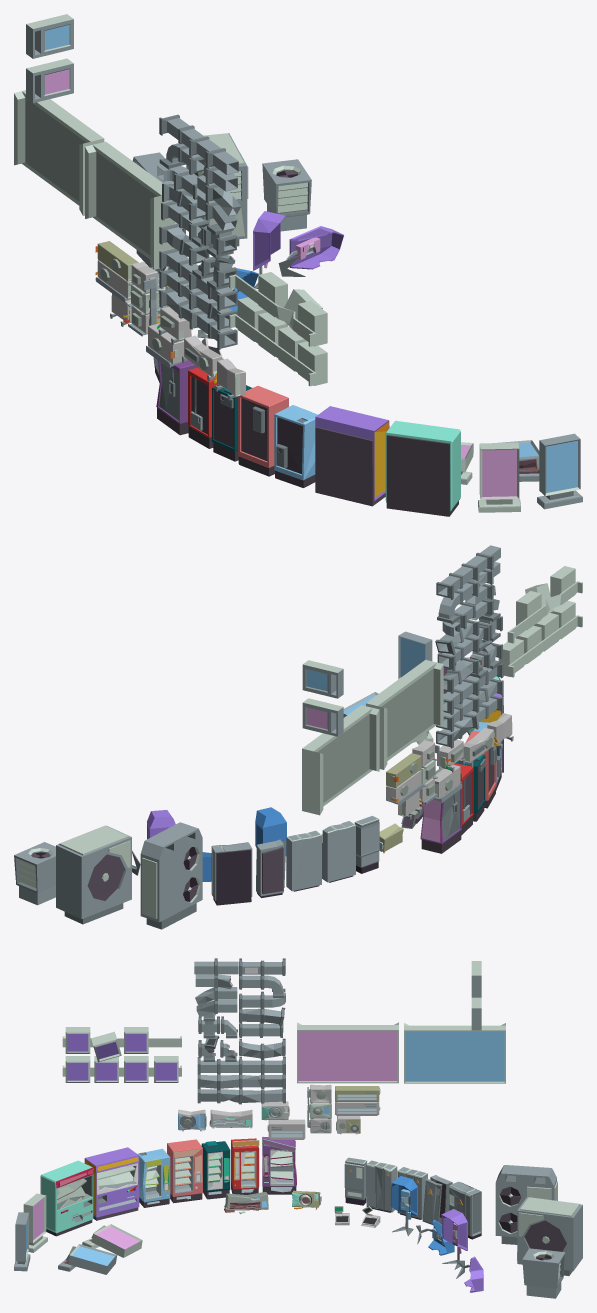
File: Proop1.obj
The picture shows the model from 3 angles, top to bottom: view 1: azimuth 30°, elevation 25°; view 2: azimuth 150°, elevation 25°; view 3: azimuth 270°, elevation 25°; orthographic projection. The views are drawn at different scales.
Parts seen in each view (by area): view 1: signboard_2_Куб.326, 7_vending_machine_Куб.102, 6_vending_machine_Куб.101, signboard_2.RC_Куб.328, signboard_3_Куб.329, signboard_3.RC_Куб.332, 3__vending_machine_Куб.001, 5__vending_machine_Куб.004, street_stand_1_Куб.142, street_stand_1.RC_Куб.273, air_conditioner_in_rouf_Куб.316, 4_vending_machine_Куб.003 (+29 smaller); view 2: air_conditioner_in_rouf_3_Куб.325, air_conditioner_in_rouf_2_Куб.324, signboard_2.RC_Куб.328, signboard_2_Куб.326, signboard_3_Куб.329, Electrical_panels_1_Куб.025, signboard_3.RC_Куб.332, air_conditioner_in_rouf_Куб.316, 4_vending_machine_Куб.003, Electrical_panels_3_Куб.028, Electrical_panels_4_Куб.034, Electrical_panels_2_Куб.026 (+26 smaller); view 3: signboard_2_Куб.326, signboard_2.RC_Куб.328, air_conditioner_in_rouf_3_Куб.325, 7_vending_machine_Куб.102, 6_vending_machine_Куб.101, air_conditioner_in_rouf_2_Куб.324, signboard_3_Куб.329, signboard_3.RC_Куб.332, 3__vending_machine_Куб.001, 4_vending_machine_Куб.003, air_conditioner_in_rouf_Куб.316, 5__vending_machine_Куб.004 (+38 smaller).
Boxes of the visible parts, x1=… form: signboard_2_Куб.326: x1=85, y1=141, x2=174, y2=269; 7_vending_machine_Куб.102: x1=385, y1=420, x2=460, y2=516; 6_vending_machine_Куб.101: x1=315, y1=406, x2=389, y2=506; signboard_2.RC_Куб.328: x1=14, y1=90, x2=104, y2=215; signboard_3_Куб.329: x1=229, y1=297, x2=327, y2=386; signboard_3.RC_Куб.332: x1=229, y1=272, x2=327, y2=346; 3__vending_machine_Куб.001: x1=238, y1=385, x2=288, y2=476; 5__vending_machine_Куб.004: x1=274, y1=405, x2=317, y2=487; street_stand_1_Куб.142: x1=537, y1=433, x2=582, y2=509; street_stand_1.RC_Куб.273: x1=478, y1=442, x2=520, y2=512; air_conditioner_in_rouf_Куб.316: x1=262, y1=159, x2=311, y2=231; 4_vending_machine_Куб.003: x1=156, y1=360, x2=197, y2=435; air_conditioner_in_rouf_3_Куб.325: x1=56, y1=825, x2=131, y2=924; air_conditioner_in_rouf_2_Куб.324: x1=140, y1=822, x2=202, y2=929; signboard_2.RC_Куб.328: x1=302, y1=705, x2=379, y2=815; signboard_2_Куб.326: x1=366, y1=660, x2=443, y2=769; signboard_3_Куб.329: x1=498, y1=600, x2=582, y2=677; Electrical_panels_1_Куб.025: x1=211, y1=842, x2=252, y2=905; signboard_3.RC_Куб.332: x1=507, y1=566, x2=582, y2=643; air_conditioner_in_rouf_Куб.316: x1=14, y1=842, x2=55, y2=905; 4_vending_machine_Куб.003: x1=420, y1=769, x2=461, y2=853; Electrical_panels_3_Куб.028: x1=286, y1=830, x2=321, y2=891; Electrical_panels_4_Куб.034: x1=322, y1=821, x2=355, y2=882; Electrical_panels_2_Куб.026: x1=256, y1=839, x2=286, y2=897; signboard_2_Куб.326: x1=297, y1=1022, x2=398, y2=1083; signboard_2.RC_Куб.328: x1=404, y1=1023, x2=505, y2=1083; air_conditioner_in_rouf_3_Куб.325: x1=517, y1=1197, x2=582, y2=1275; 7_vending_machine_Куб.102: x1=40, y1=1160, x2=93, y2=1236; 6_vending_machine_Куб.101: x1=84, y1=1147, x2=139, y2=1220; air_conditioner_in_rouf_2_Куб.324: x1=495, y1=1165, x2=557, y2=1244; signboard_3_Куб.329: x1=62, y1=1056, x2=181, y2=1082; signboard_3.RC_Куб.332: x1=62, y1=1027, x2=181, y2=1062; 3__vending_machine_Куб.001: x1=167, y1=1139, x2=202, y2=1203; 4_vending_machine_Куб.003: x1=262, y1=1137, x2=296, y2=1194; air_conditioner_in_rouf_Куб.316: x1=522, y1=1248, x2=565, y2=1298; 5__vending_machine_Куб.004: x1=138, y1=1148, x2=170, y2=1207.
Bounding box in the file's own units: 9.43 × 8.51 × 19.32.
